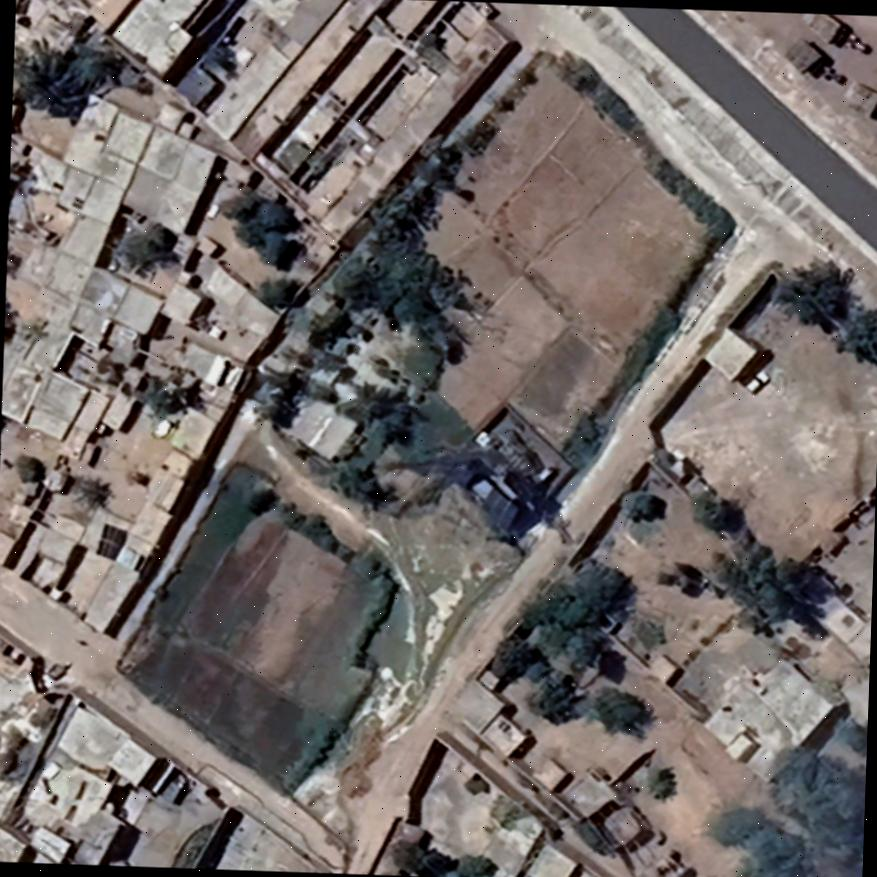Solarpanel: (92, 521, 132, 562)
